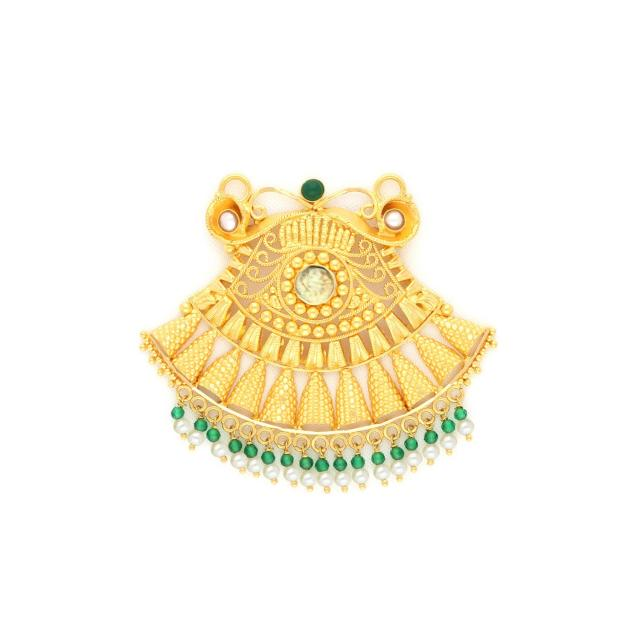missing gem: (295, 266, 333, 303)
